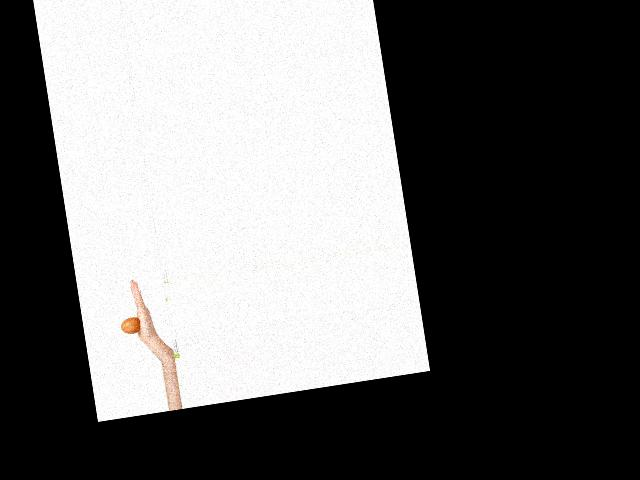egg: (120, 315, 142, 334)
